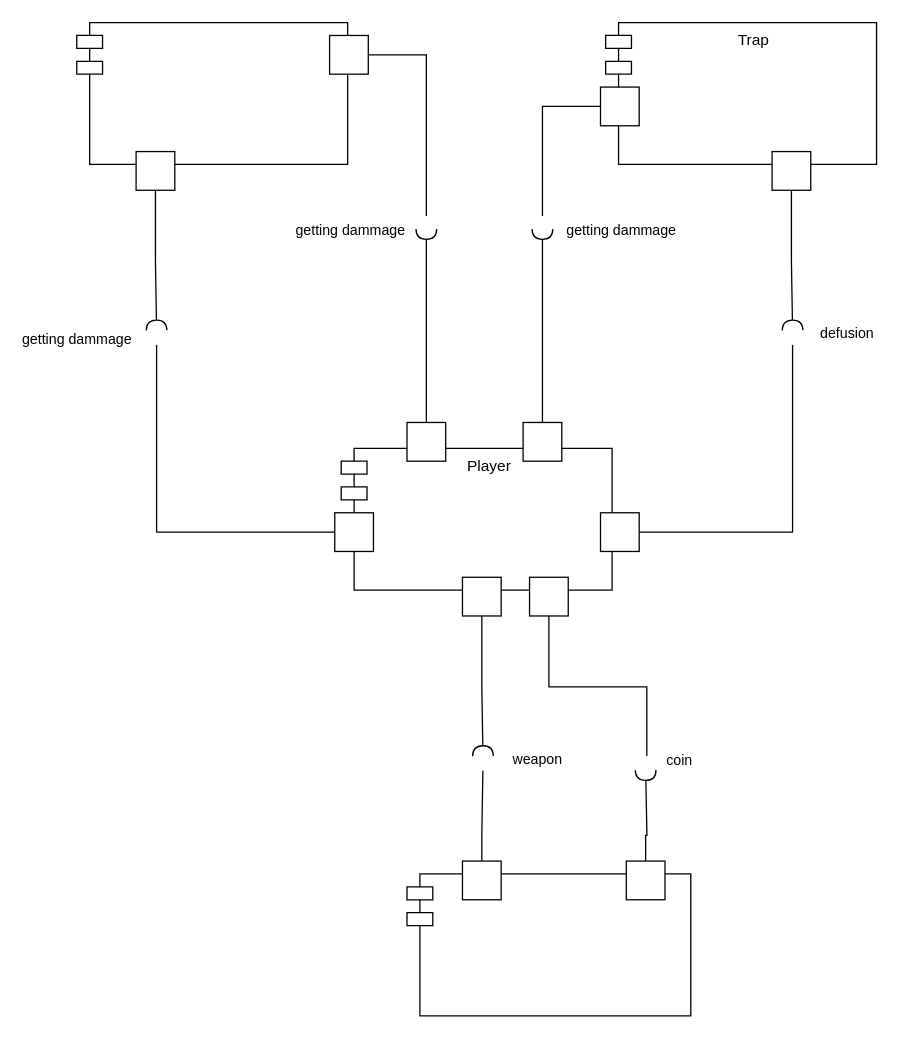
The diagram is 899 pixels wide and 1038 high, and some of its shapes have lost their labels. The box of each missing label's shape, as (x1, y1, x2, y2) in pixels:
Enemy: (75, 21, 348, 164)
Inventory: (406, 873, 691, 1016)
